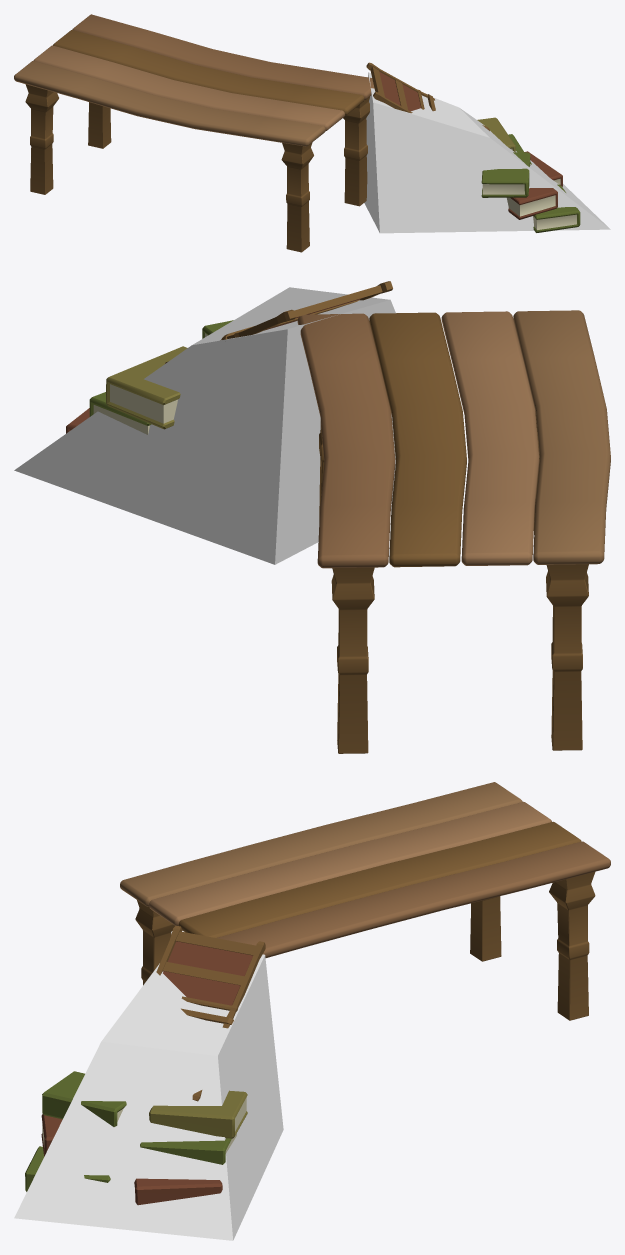
Rendered from lc rampe 1.fbx.
The picture shows the model from 3 angles, top to bottom: view 1: azimuth 30°, elevation 25°; view 2: azimuth 150°, elevation 25°; view 3: azimuth 270°, elevation 25°; orthographic projection. The views are drawn at different scales.
Visible parts, largest first — view 1: Cube.005, rampe lc, brique tour.011, Cube.015; view 2: Cube.005, rampe lc, brique tour.011, Cube.015; view 3: Cube.005, rampe lc, brique tour.011, Cube.015.
Part boxes in pixels (x1=…): Cube.005: x1=14, y1=14, x2=374, y2=252; rampe lc: x1=364, y1=72, x2=610, y2=233; brique tour.011: x1=477, y1=117, x2=580, y2=232; Cube.015: x1=366, y1=62, x2=489, y2=130; Cube.005: x1=297, y1=310, x2=610, y2=753; rampe lc: x1=14, y1=287, x2=395, y2=564; brique tour.011: x1=66, y1=320, x2=233, y2=434; Cube.015: x1=165, y1=281, x2=392, y2=363; Cube.005: x1=120, y1=782, x2=610, y2=1020; rampe lc: x1=14, y1=954, x2=283, y2=1240; brique tour.011: x1=25, y1=1071, x2=247, y2=1205; Cube.015: x1=156, y1=925, x2=265, y2=1101.
Bounding box in the file's own units: 700 × 216 × 620.
